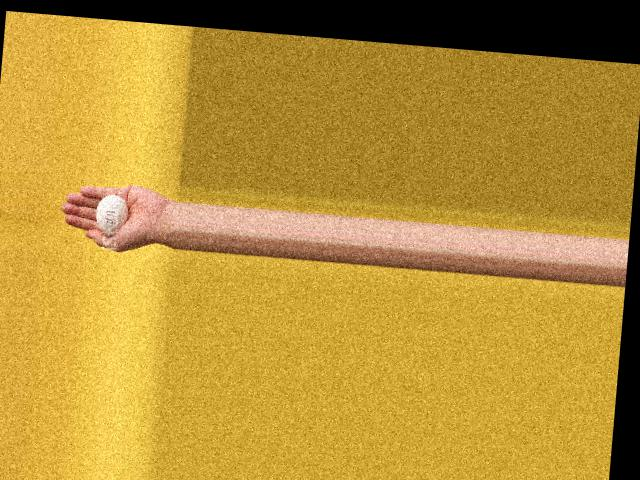egg: (94, 193, 129, 236)
